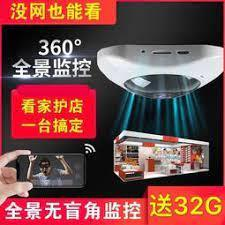maru: (86, 43, 225, 101)
